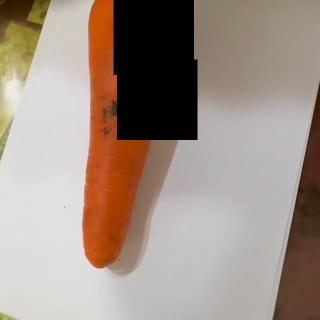carrot: (81, 0, 170, 270)
